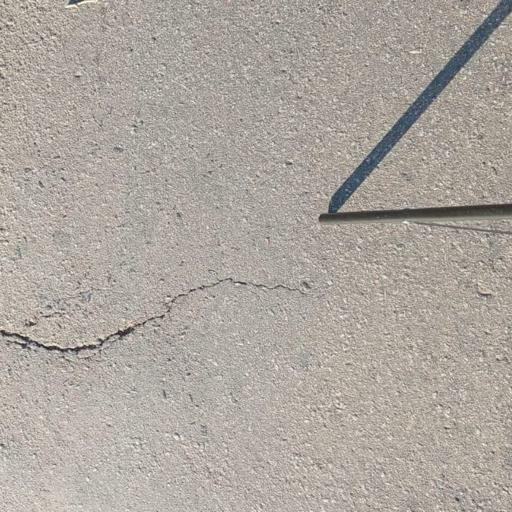GRIETA: (0, 277, 303, 353)
